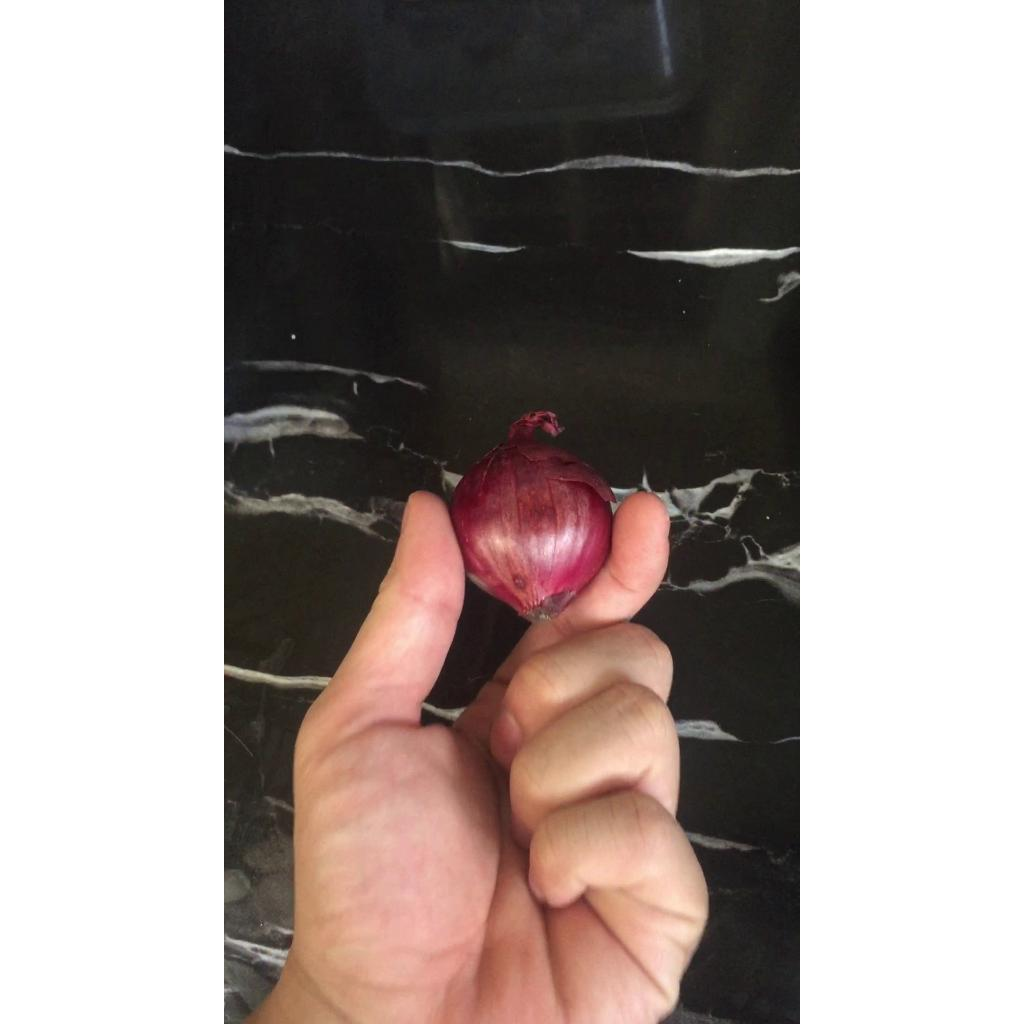Onion: (449, 411, 615, 623)
